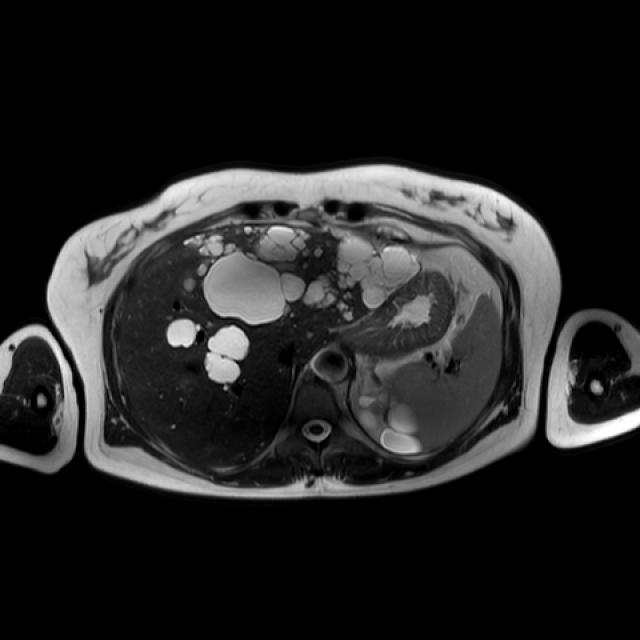sol: (363, 368, 422, 455)
